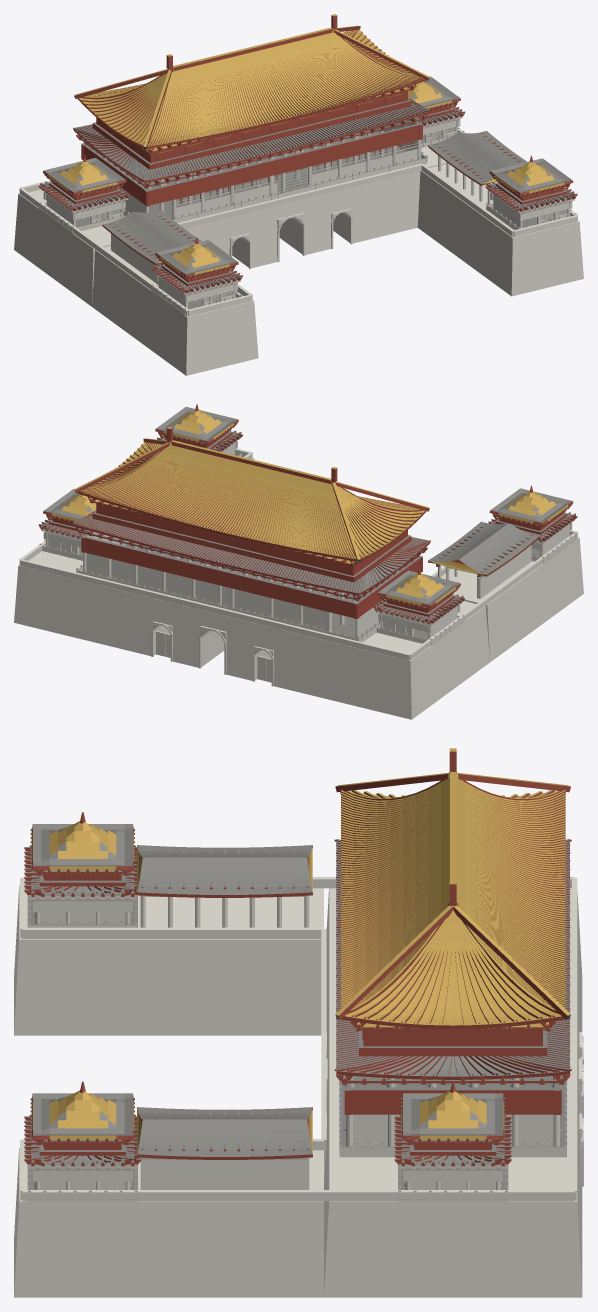
The model's file is r01_wumen.glb.
3 renders of one model, top to bottom at view 1: azimuth 30°, elevation 25°; view 2: azimuth 150°, elevation 25°; view 3: azimuth 270°, elevation 25°, orthographic. The views are drawn at different scales.
Parts seen in each view (by area): view 1: r01_wumen; view 2: r01_wumen; view 3: r01_wumen.
Boxes of the visible parts, x1=… form: r01_wumen: x1=14, y1=14, x2=583, y2=375; r01_wumen: x1=14, y1=404, x2=583, y2=719; r01_wumen: x1=14, y1=748, x2=583, y2=1297.
Bounding box in the file's own units: 88 × 41.15 × 66.19.
